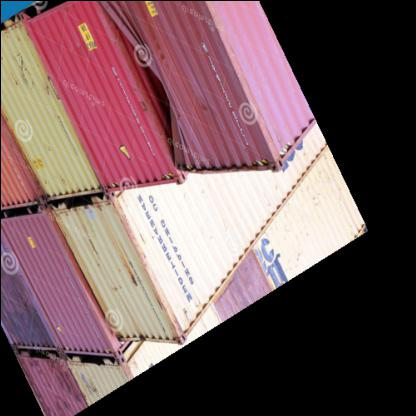Damage: (128, 48, 199, 157)
